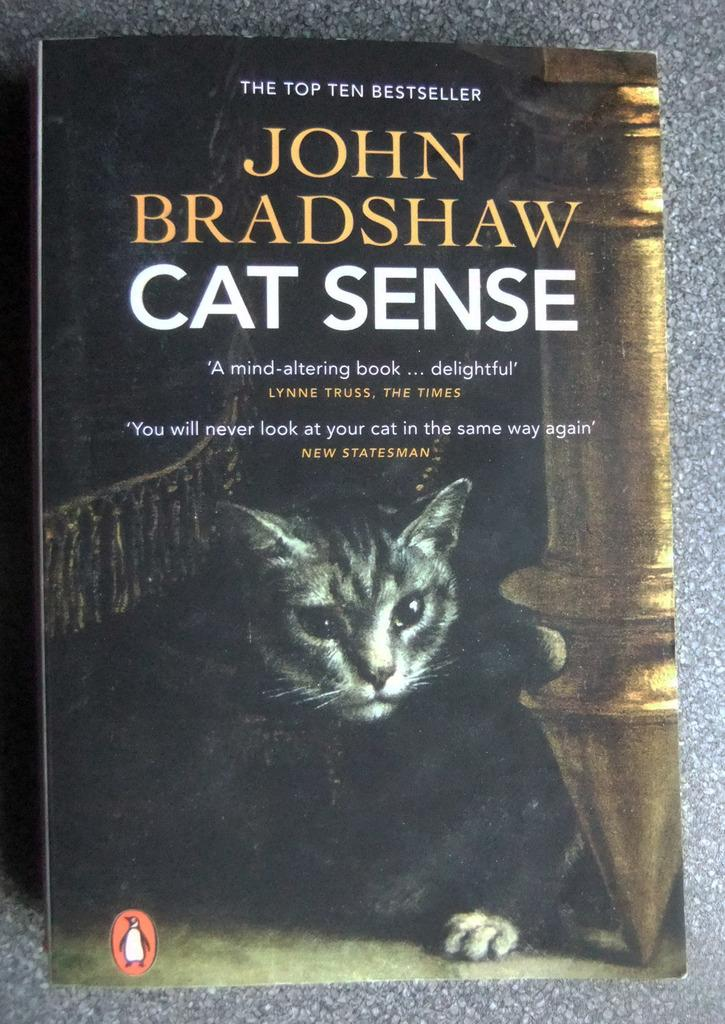Book: (30, 34, 682, 987)
